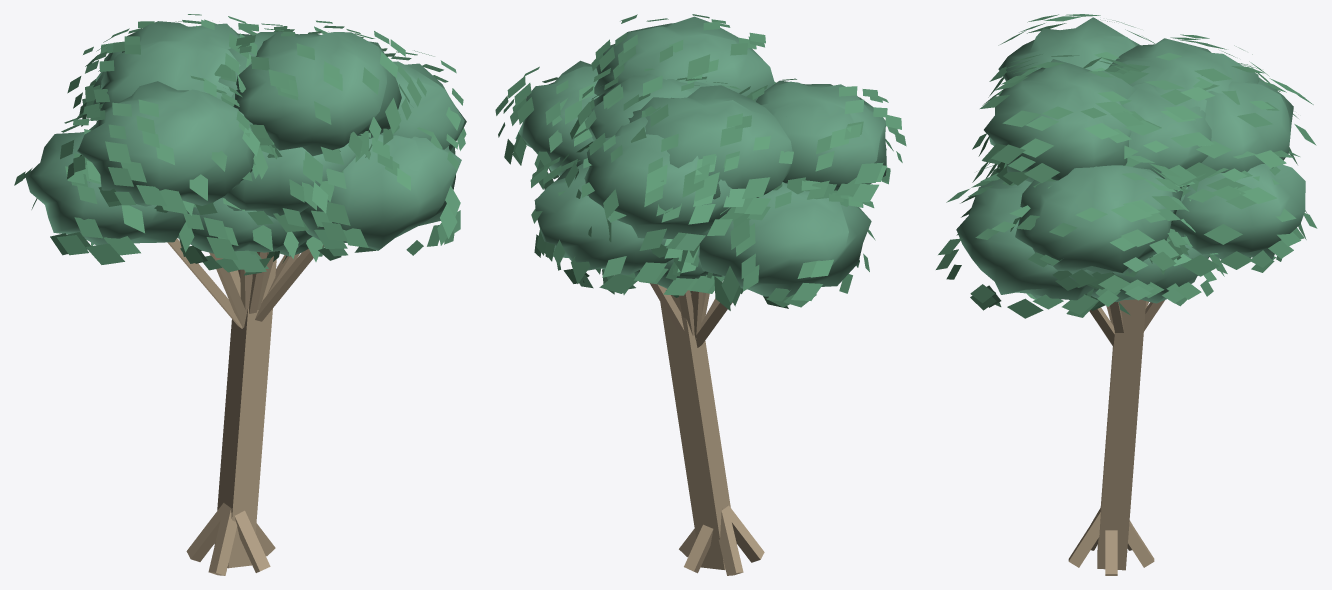
File: linden_lean.glb
3 views of the same model, side by side, from view 1: azimuth 30°, elevation 25°; view 2: azimuth 150°, elevation 25°; view 3: azimuth 270°, elevation 25° (orthographic). The views are drawn at different scales.
Visible parts, largest first — view 1: SourceMesh_00032, SourceMesh_00030, SourceMesh_00028, SourceMesh_00022, SourceMesh_00000, SourceMesh_00031, SourceMesh_00023, SourceMesh_00025, SourceMesh_00027, SourceMesh_00020, SourceMesh_00003, SourceMesh_00009 (+5 smaller); view 2: SourceMesh_00032, SourceMesh_00023, SourceMesh_00031, SourceMesh_00000, SourceMesh_00028, SourceMesh_00026, SourceMesh_00030, SourceMesh_00021, SourceMesh_00027, SourceMesh_00029, SourceMesh_00004, SourceMesh_00003 (+2 smaller); view 3: SourceMesh_00032, SourceMesh_00027, SourceMesh_00030, SourceMesh_00000, SourceMesh_00021, SourceMesh_00022, SourceMesh_00026, SourceMesh_00031, SourceMesh_00028, SourceMesh_00029, SourceMesh_00019, SourceMesh_00002 (+2 smaller).
Boxes of the visible parts, x1,y1,x2,y2 form: SourceMesh_00032: (14,14,466,275); SourceMesh_00030: (233,31,401,156); SourceMesh_00028: (77,81,254,206); SourceMesh_00022: (300,135,461,250); SourceMesh_00000: (214,259,276,568); SourceMesh_00031: (93,22,240,110); SourceMesh_00023: (25,124,187,245); SourceMesh_00025: (221,143,355,219); SourceMesh_00027: (379,61,466,150); SourceMesh_00020: (177,198,312,253); SourceMesh_00003: (208,504,237,575); SourceMesh_00009: (255,245,323,321); SourceMesh_00032: (495,14,906,310); SourceMesh_00023: (697,182,871,296); SourceMesh_00031: (628,85,793,199); SourceMesh_00000: (660,293,730,569); SourceMesh_00028: (756,80,886,190); SourceMesh_00026: (584,117,731,239); SourceMesh_00030: (594,16,774,101); SourceMesh_00021: (535,163,672,274); SourceMesh_00027: (515,60,598,175); SourceMesh_00029: (587,73,711,141); SourceMesh_00004: (718,510,743,575); SourceMesh_00003: (723,505,764,562); SourceMesh_00032: (936,14,1317,318); SourceMesh_00027: (1015,165,1182,274); SourceMesh_00030: (984,59,1136,182); SourceMesh_00000: (1097,299,1146,570); SourceMesh_00021: (1170,164,1305,259); SourceMesh_00022: (956,178,1113,300); SourceMesh_00026: (1186,77,1293,186); SourceMesh_00031: (1108,38,1258,111); SourceMesh_00028: (998,17,1140,81); SourceMesh_00029: (1123,82,1211,188); SourceMesh_00019: (1087,245,1209,303); SourceMesh_00002: (1068,509,1100,567).
Size of the model in its own units: 3.22 by 4.2 by 2.8.
